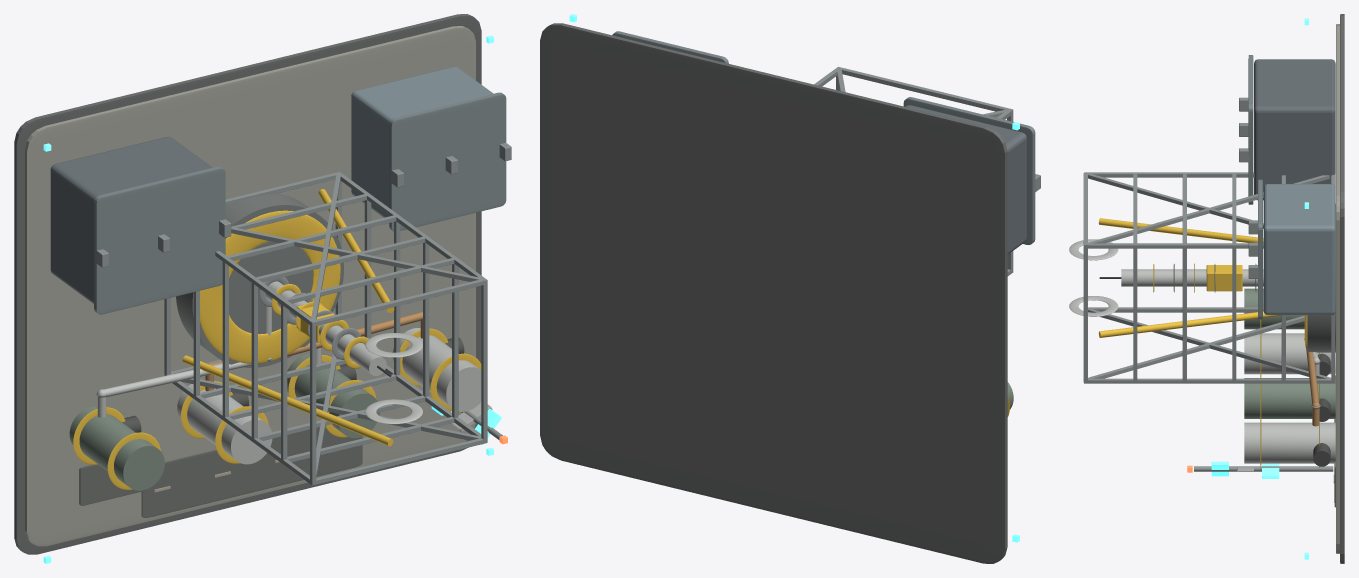
File: b-53-core-drill-lod1.glb
3 renders of one model, left to right at view 1: azimuth 30°, elevation 25°; view 2: azimuth 150°, elevation 25°; view 3: azimuth 270°, elevation 25°, orthographic. The views are drawn at different scales.
Parts seen in each view (by area): view 1: foundation_inner_pad, core_analysis_module_roof, foundation, core_power_module_roof, core_analysis_module_main_hall, core_drill_access_road, core_power_module_main_hall, primary_rotary_table_base, primary_rotary_table, coolant_tank_0_vessel, coolant_tank_3_vessel, coolant_tank_1_vessel (+39 smaller); view 2: foundation, core_analysis_module_main_hall, core_analysis_module_roof, core_drilling_derrick_beam_x_5_n, core_power_module_roof; view 3: core_analysis_module_main_hall, core_power_module_main_hall, coolant_tank_3_vessel, coolant_tank_2_vessel, foundation, coolant_tank_1_vessel, foundation_inner_pad, core_drill_column, core_drilling_derrick_column_e_s, core_drilling_derrick_brace_a_-3.1, core_drilling_derrick_brace_b_-3.1, derrick_crown_brace_-1 (+21 smaller).
Boxes of the visible parts, x1,y1,x2,y2 form: foundation_inner_pad: [25, 26, 475, 546]; core_analysis_module_roof: [94, 166, 225, 314]; foundation: [14, 14, 481, 554]; core_power_module_roof: [389, 92, 506, 231]; core_analysis_module_main_hall: [50, 136, 212, 303]; core_drill_access_road: [141, 427, 362, 517]; core_power_module_main_hall: [351, 66, 493, 217]; primary_rotary_table_base: [176, 193, 343, 367]; primary_rotary_table: [200, 210, 340, 363]; coolant_tank_0_vessel: [69, 406, 164, 490]; coolant_tank_3_vessel: [392, 328, 481, 411]; coolant_tank_1_vessel: [177, 384, 272, 464]; foundation: [540, 23, 1007, 563]; core_analysis_module_main_hall: [905, 105, 1026, 254]; core_analysis_module_roof: [903, 97, 1035, 244]; core_drilling_derrick_beam_x_5_n: [840, 67, 1013, 114]; core_power_module_roof: [612, 31, 728, 63]; core_analysis_module_main_hall: [1254, 59, 1335, 200]; core_power_module_main_hall: [1263, 184, 1335, 314]; coolant_tank_3_vessel: [1244, 422, 1335, 463]; coolant_tank_2_vessel: [1244, 378, 1335, 418]; foundation: [1340, 14, 1344, 563]; coolant_tank_1_vessel: [1244, 333, 1335, 374]; foundation_inner_pad: [1336, 24, 1339, 553]; core_drill_column: [1121, 269, 1263, 286]; core_drilling_derrick_column_e_s: [1087, 378, 1331, 383]; core_drilling_derrick_brace_a_-3.1: [1088, 315, 1304, 378]; core_drilling_derrick_brace_b_-3.1: [1088, 309, 1331, 378]; derrick_crown_brace_-1: [1098, 311, 1286, 337].
Size of what is drawn, in the model's own units: 19 by 17 by 11.47.
